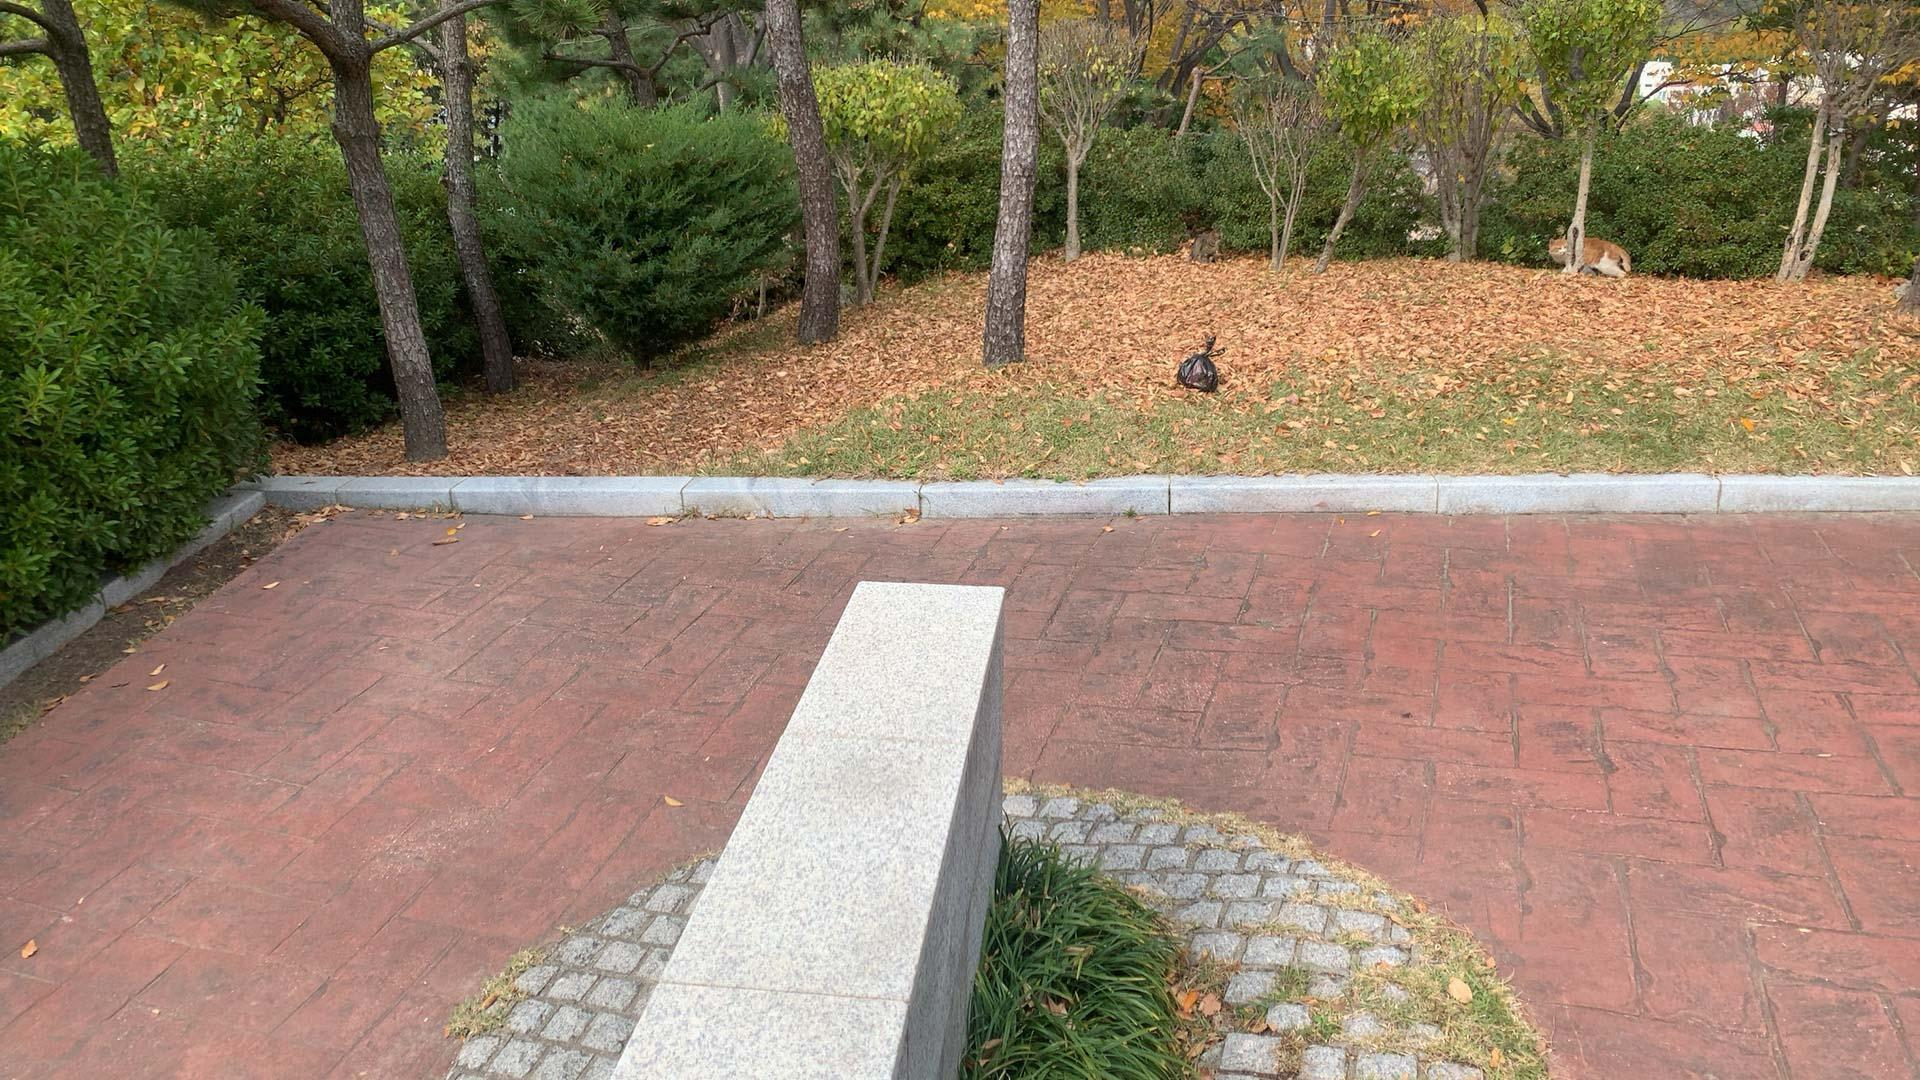black_bag: (1172, 334, 1228, 392)
